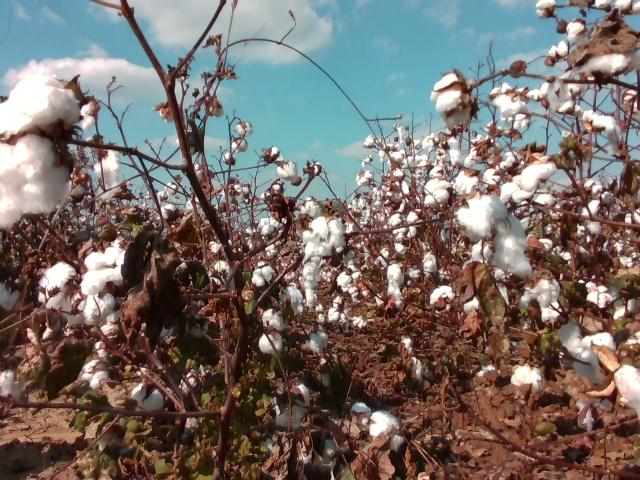cotton_ready: (0, 73, 84, 227), (457, 196, 532, 276), (38, 262, 115, 325), (557, 323, 617, 389), (570, 40, 640, 78), (81, 247, 133, 297), (350, 402, 403, 451), (431, 71, 473, 128), (499, 162, 557, 202), (527, 76, 585, 115), (123, 368, 167, 415), (302, 215, 346, 258), (582, 109, 621, 156), (431, 285, 481, 318), (276, 382, 311, 429), (519, 275, 560, 311), (614, 365, 640, 421), (490, 83, 526, 118), (389, 208, 423, 239), (94, 146, 121, 183), (0, 366, 26, 403), (0, 276, 25, 314), (82, 359, 112, 389), (512, 365, 543, 393), (386, 263, 405, 306), (424, 179, 453, 207), (80, 98, 99, 131), (593, 0, 640, 13), (262, 308, 288, 330), (623, 87, 640, 120), (259, 332, 282, 355), (251, 266, 275, 287), (277, 161, 299, 181)
